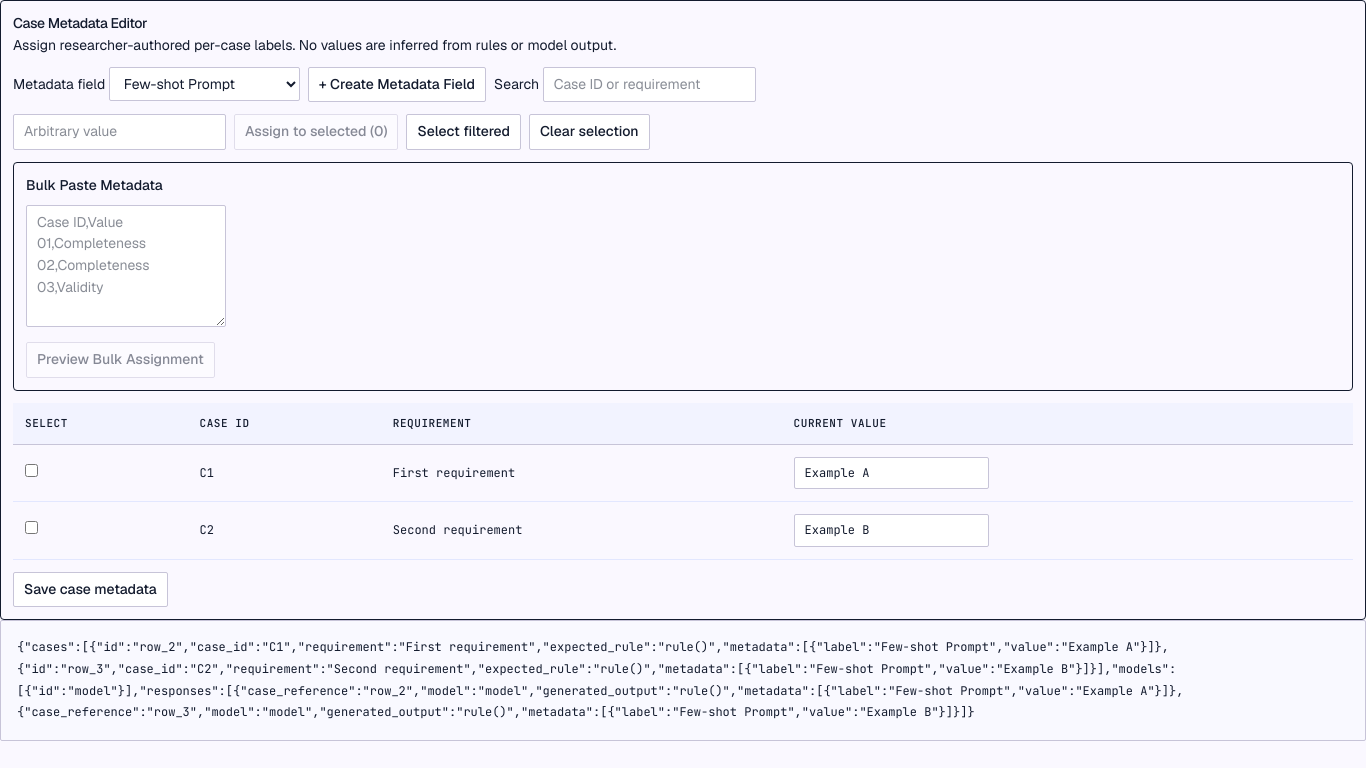
Test: creates an arbitrary field without changing existing metadata
Click the button "+ Create Metadata Field" at (397, 85), box [308, 67, 486, 102]
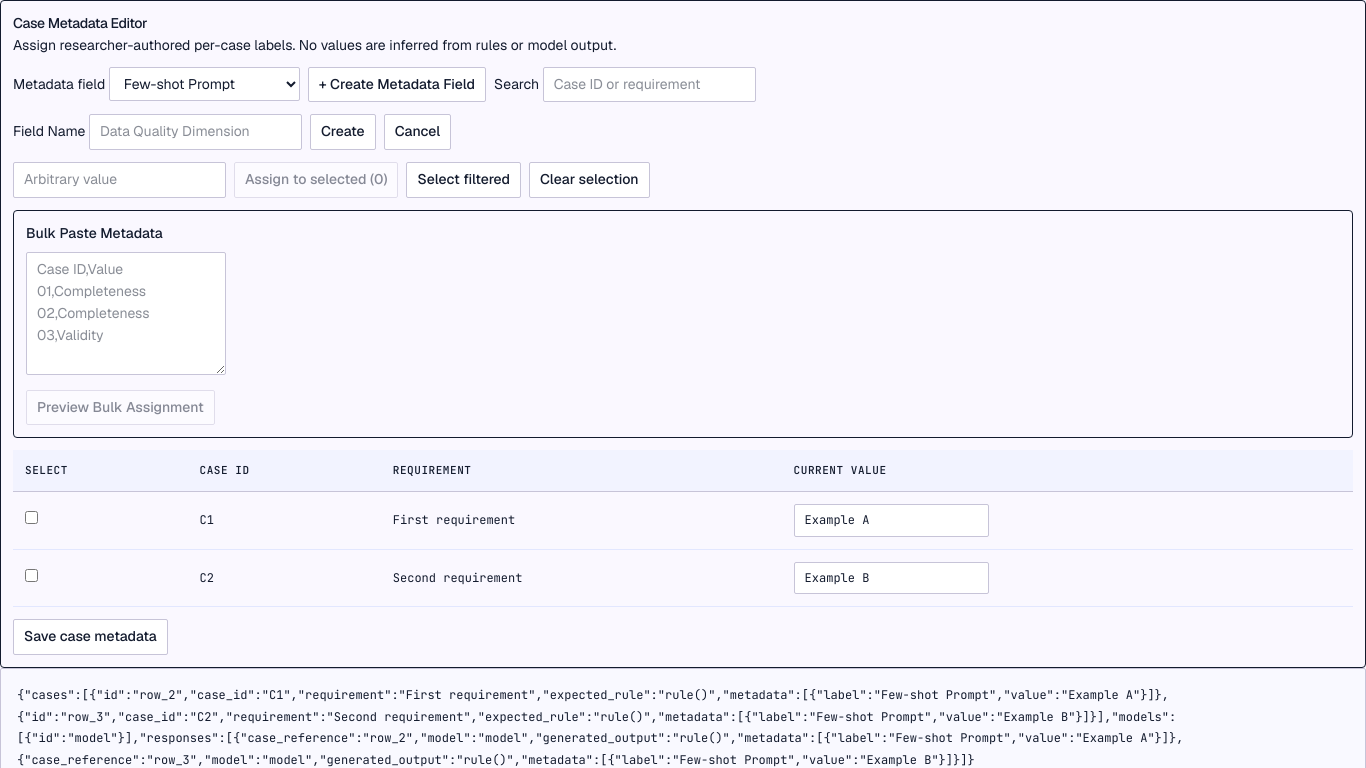
Type "Researcher DQ Axis" into the field named "New metadata field name" at (195, 132), box [89, 114, 302, 150]
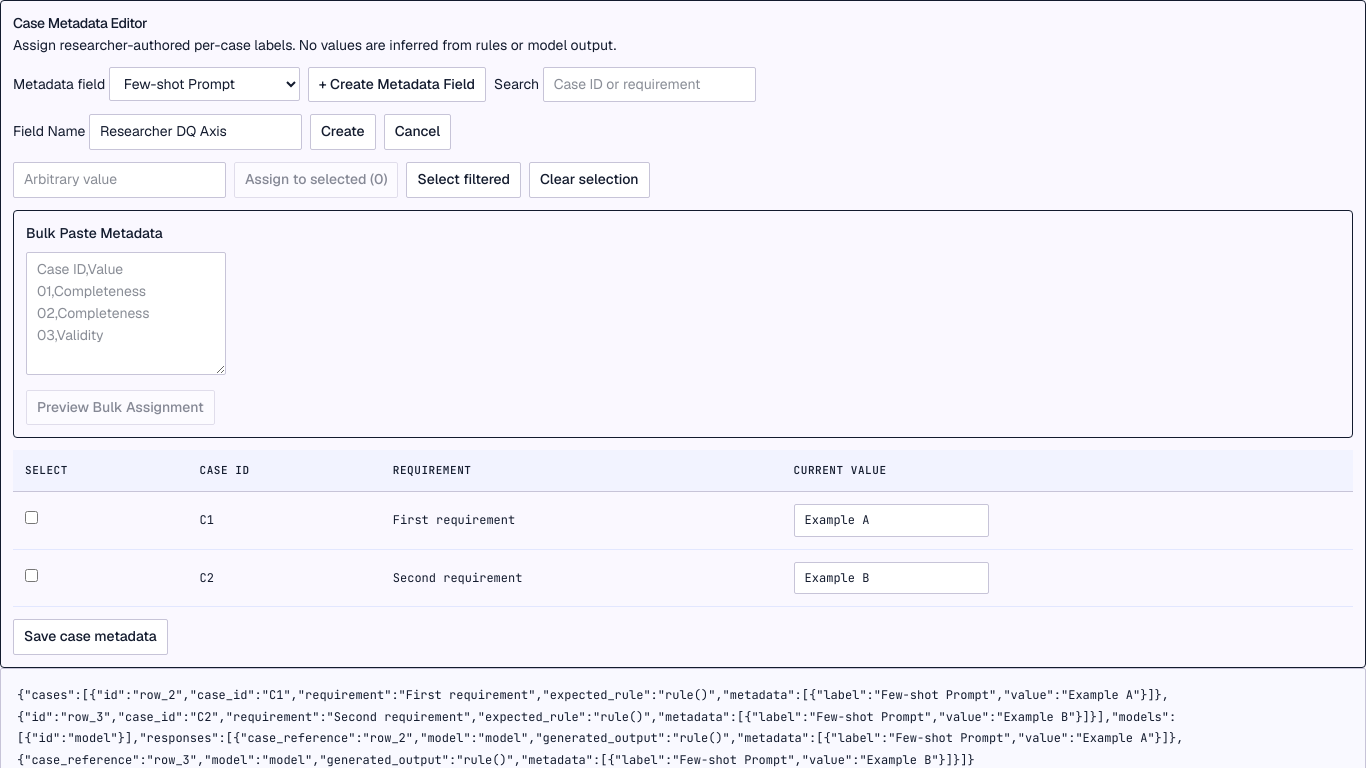
Click the button "Create" at (343, 132), box [310, 114, 376, 150]
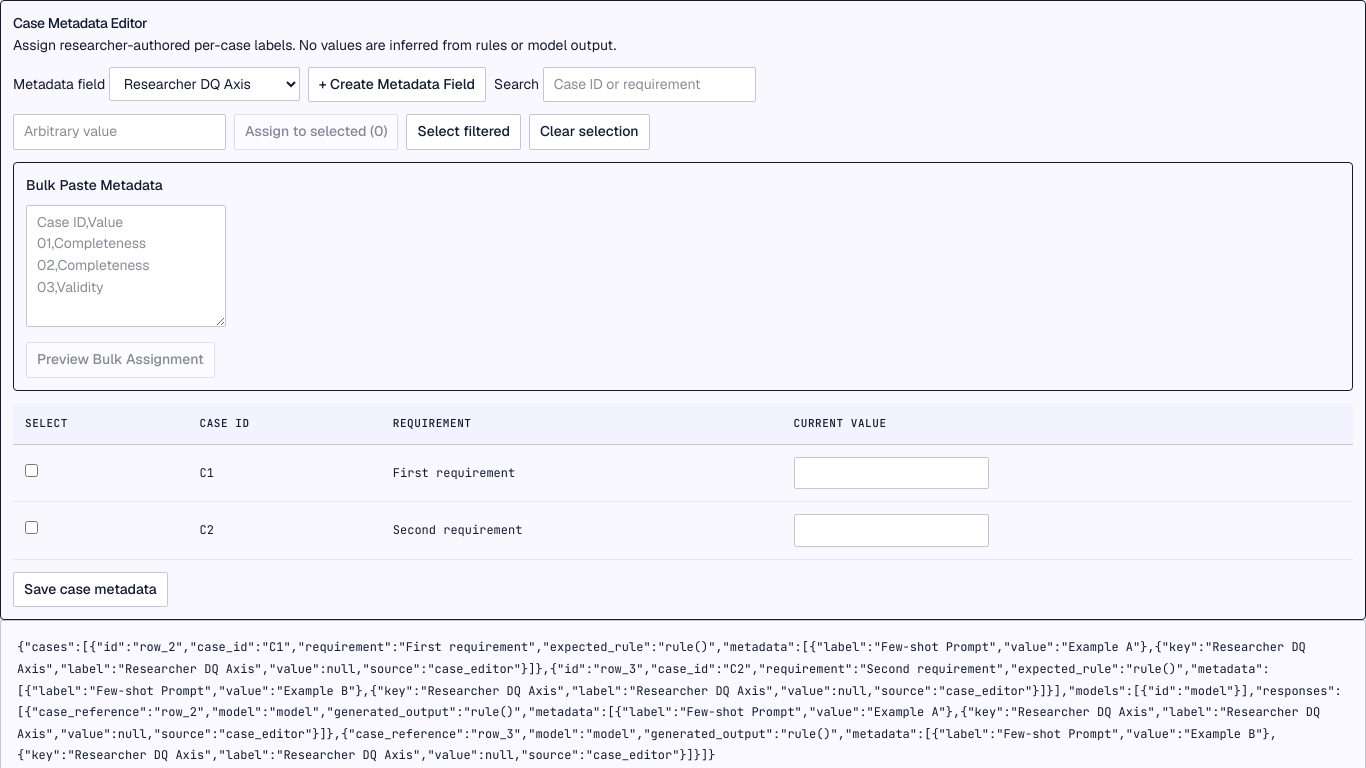
Now the dropdown named "Case metadata field" shows "Researcher DQ Axis", box [109, 67, 300, 101]
